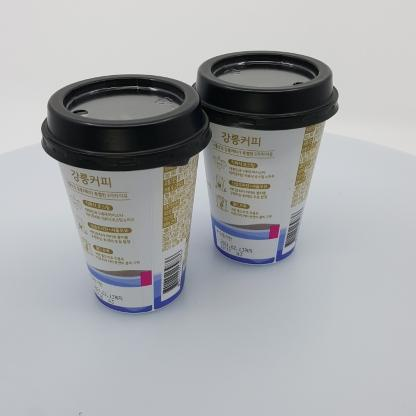----------250ML: (40, 74, 211, 315), (192, 50, 340, 266)
